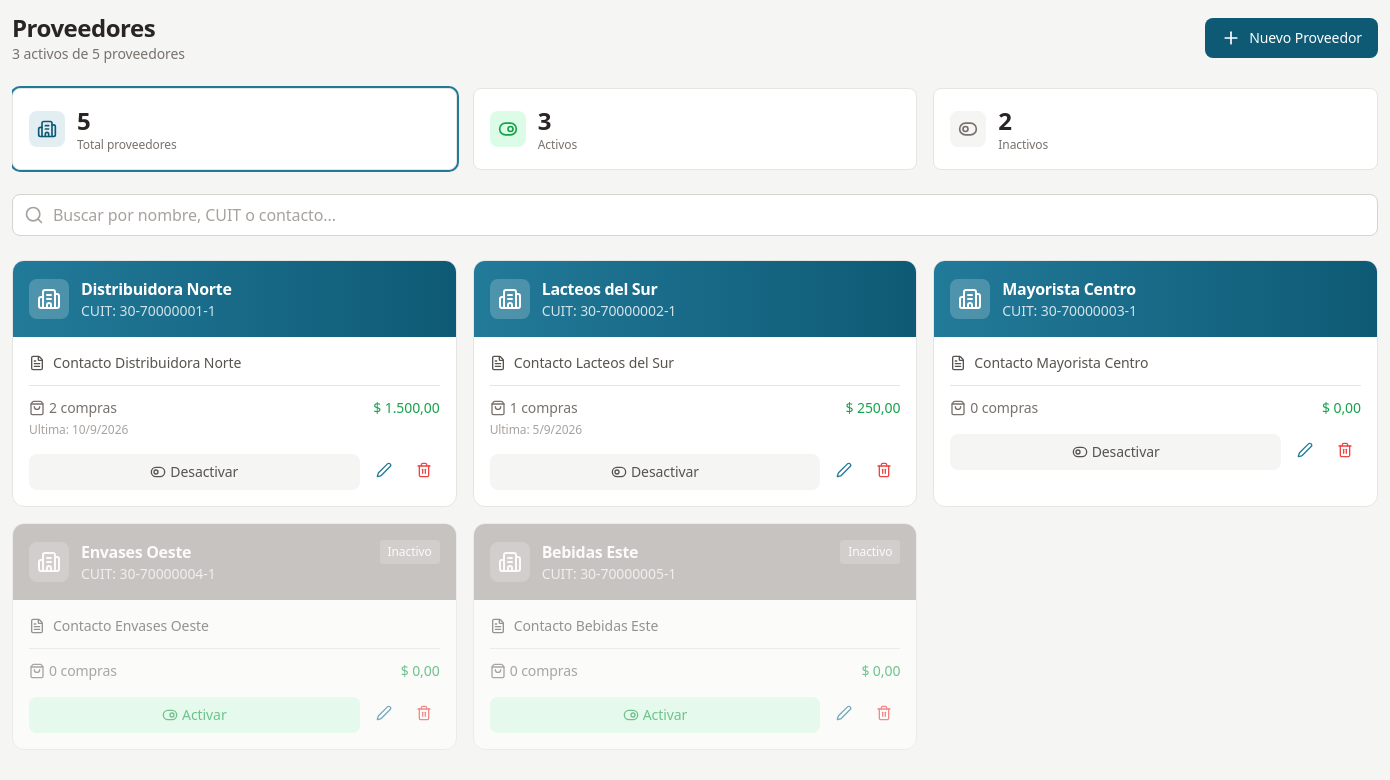
Test: VistaProveedores — filtros › una busqueda sin resultados dice "No se encontraron proveedores"
The image size is (1390, 780).
Type "zzz" into the field. click: (695, 215)
box: [12, 194, 1378, 236]
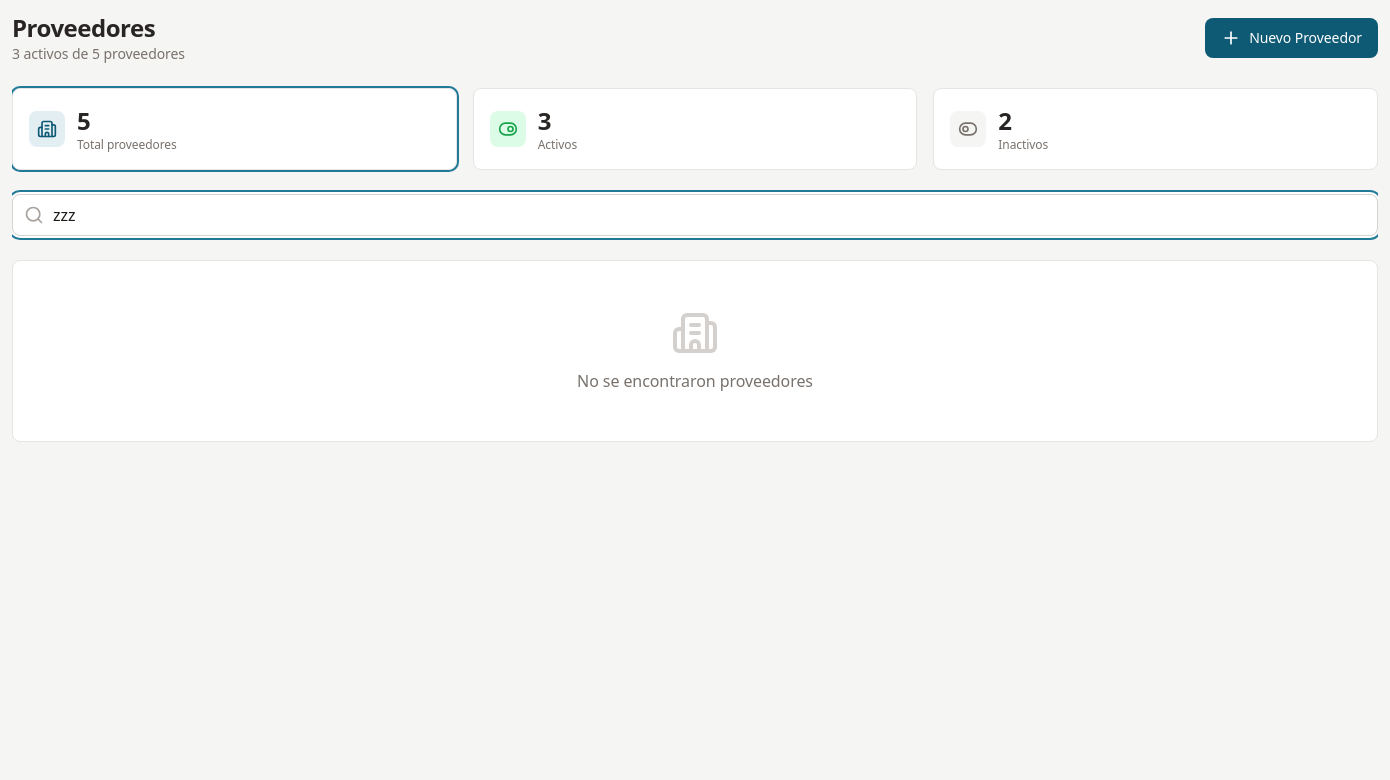
Check: the text "No se encontraron proveedores" is shown, box [577, 370, 813, 392]
Check: no the heading "Distribuidora Norte" are shown
